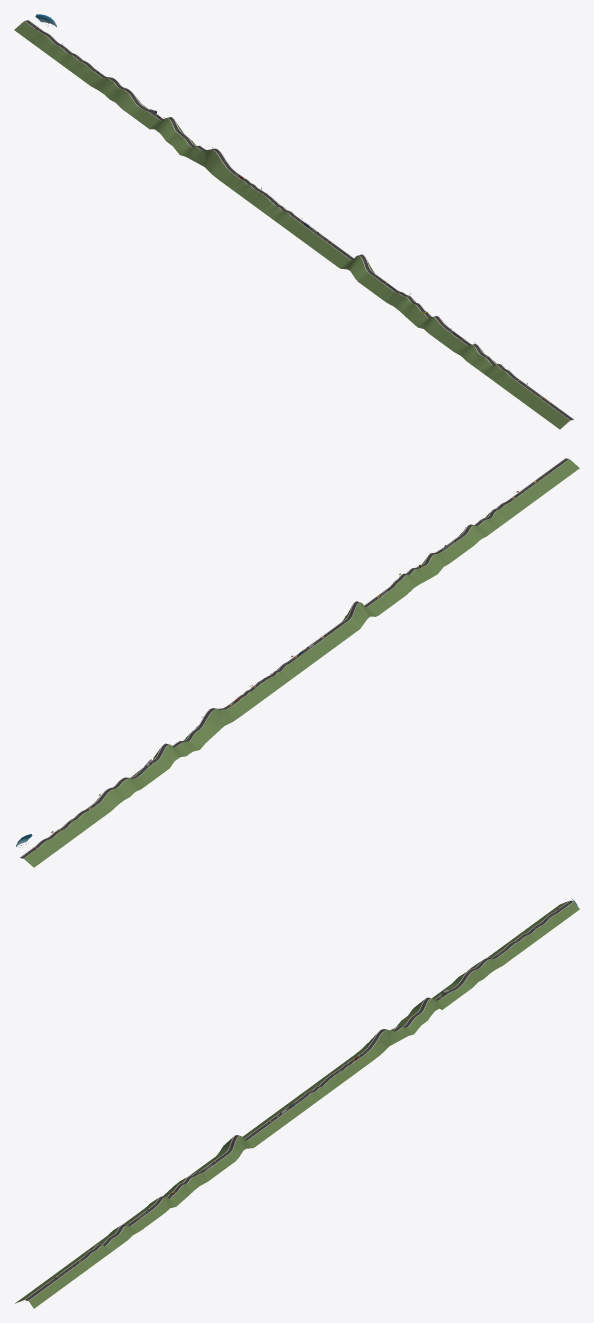
The model's file is level_4_city.glb.
The picture shows the model from 3 angles, top to bottom: view 1: azimuth 30°, elevation 25°; view 2: azimuth 150°, elevation 25°; view 3: azimuth 330°, elevation 25°; orthographic projection.
Parts seen in each view (by area): view 1: road_hard_04, road_normal_15, road_normal_09, road_normal_07, road_easy_12, road_easy_05, road_easy_00 (1), road_easy_00 (2); view 2: road_hard_04, road_normal_15, road_normal_09, road_normal_07, road_easy_12, road_easy_05, road_easy_00 (1), road_easy_00 (2); view 3: road_hard_04, road_normal_15, road_normal_07, road_easy_00 (1), road_easy_05, road_easy_12, road_normal_09, road_easy_00 (2).
Part boxes in pixels (box(x1,y1,x2,y2)): road_hard_04: box(168, 133, 237, 183); road_normal_15: box(382, 289, 451, 339); road_normal_09: box(87, 73, 154, 123); road_normal_07: box(449, 338, 518, 388); road_easy_12: box(229, 177, 297, 227); road_easy_05: box(27, 29, 95, 79); road_easy_00 (1): box(505, 379, 573, 429); road_easy_00 (2): box(284, 217, 353, 267); road_hard_04: box(174, 704, 243, 754); road_normal_15: box(388, 547, 457, 597); road_normal_09: box(92, 764, 161, 814); road_normal_07: box(455, 498, 524, 548); road_easy_12: box(234, 660, 303, 710); road_easy_05: box(32, 808, 101, 858); road_easy_00 (1): box(510, 458, 579, 508); road_easy_00 (2): box(289, 620, 358, 669); road_hard_04: box(351, 1013, 425, 1062); road_normal_15: box(137, 1170, 211, 1219); road_normal_07: box(70, 1219, 144, 1267); road_easy_00 (1): box(15, 1259, 89, 1308); road_easy_05: box(493, 910, 567, 958); road_easy_12: box(291, 1058, 365, 1106); road_normal_09: box(432, 953, 506, 1002); road_easy_00 (2): box(243, 1098, 309, 1146).
Size of what is drawn, in the model's own units: 58.1 by 44.51 by 1923.
7 materials, 7 textured.
